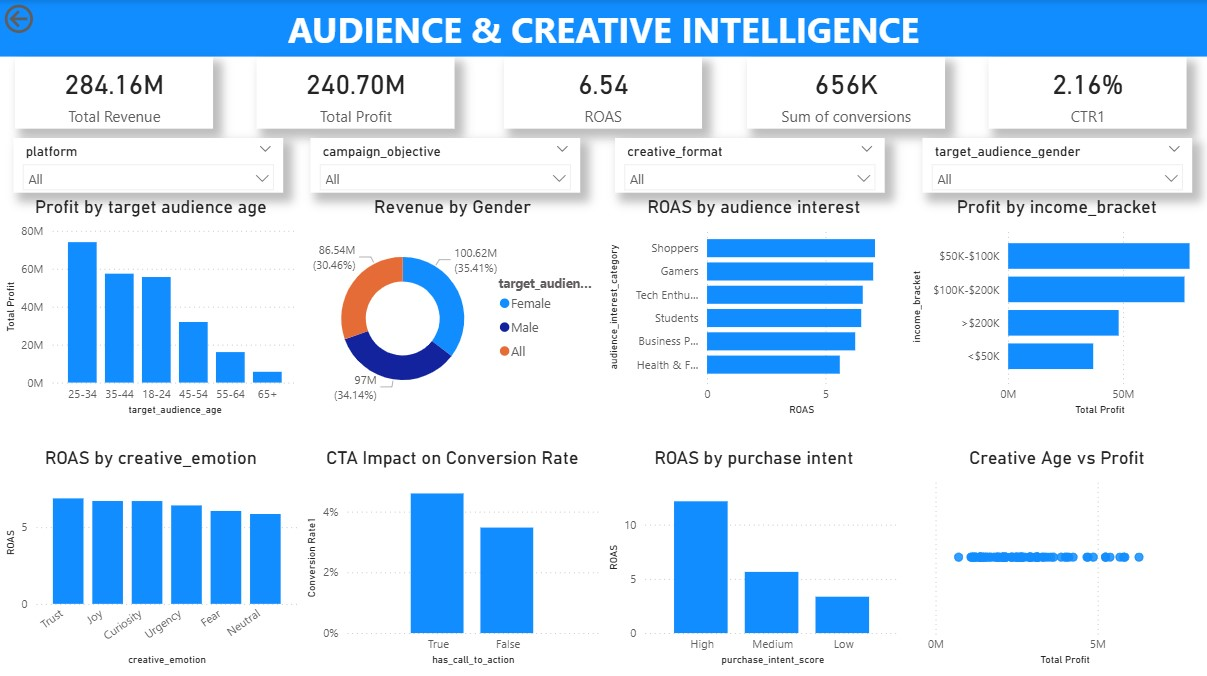

This screenshot's page, from the dashboard's own definition file:
{"tool":"powerbi","page":{"name":"Audience & Creative Intelligance","canvas":[1280,720],"ordinal":2},"visuals":[{"type":"textbox","box":[0,0,1280,60],"z":0},{"type":"card","fields":{"Values":["tech_advertising_campaigns_dataset.Total Revenue"]},"box":[16,60,210,76],"z":1},{"type":"card","fields":{"Values":["tech_advertising_campaigns_dataset.Total Profit"]},"box":[272,60,210,76],"z":2},{"type":"card","fields":{"Values":["tech_advertising_campaigns_dataset.ROAS"]},"box":[534,60,210,76],"z":3},{"type":"card","fields":{"Values":["Sum(tech_advertising_campaigns_dataset.conversions)"]},"box":[792,60,210,76],"z":4},{"type":"card","fields":{"Values":["tech_advertising_campaigns_dataset.CTR1"]},"box":[1048,60,210,76],"z":5},{"type":"clusteredColumnChart","title":"Profit by target audience age","fields":{"Y":["tech_advertising_campaigns_dataset.Total Profit"],"Category":["tech_advertising_campaigns_dataset.target_audience_age"]},"box":[0,208,320,236],"z":6},{"type":"donutChart","title":"Revenue by Gender","fields":{"Category":["tech_advertising_campaigns_dataset.target_audience_gender"],"Y":["tech_advertising_campaigns_dataset.Total Revenue"]},"box":[320,208,320,236],"z":7},{"type":"clusteredBarChart","title":"ROAS by audience interest","fields":{"Category":["tech_advertising_campaigns_dataset.audience_interest_category"],"Y":["tech_advertising_campaigns_dataset.ROAS"]},"box":[640,208,320,236],"z":8},{"type":"clusteredBarChart","title":"Profit by income_bracket","fields":{"Category":["tech_advertising_campaigns_dataset.income_bracket"],"Y":["tech_advertising_campaigns_dataset.Total Profit"]},"box":[960,208,320,236],"z":9},{"type":"clusteredColumnChart","fields":{"Category":["tech_advertising_campaigns_dataset.creative_emotion"],"Y":["tech_advertising_campaigns_dataset.ROAS"]},"box":[0,474,320,236],"z":10},{"type":"clusteredColumnChart","title":"CTA Impact on Conversion Rate","fields":{"Category":["tech_advertising_campaigns_dataset.has_call_to_action"],"Y":["tech_advertising_campaigns_dataset.Conversion Rate1"]},"box":[320,474,320,236],"z":11},{"type":"clusteredColumnChart","title":"ROAS by purchase intent","fields":{"Category":["tech_advertising_campaigns_dataset.purchase_intent_score"],"Y":["tech_advertising_campaigns_dataset.ROAS"]},"box":[640,474,320,236],"z":12},{"type":"scatterChart","title":"Creative Age vs Profit","fields":{"Category":["tech_advertising_campaigns_dataset.creative_age_days"],"X":["tech_advertising_campaigns_dataset.Total Profit"]},"box":[960,474,320,236],"z":13},{"type":"slicer","fields":{"Values":["tech_advertising_campaigns_dataset.platform"]},"box":[14,146,286,58],"z":14},{"type":"actionButton","box":[0,0,100,40],"z":15},{"type":"slicer","fields":{"Values":["tech_advertising_campaigns_dataset.campaign_objective"]},"box":[330,146,286,58],"z":16},{"type":"slicer","fields":{"Values":["tech_advertising_campaigns_dataset.creative_format"]},"box":[652,146,286,58],"z":17},{"type":"slicer","fields":{"Values":["tech_advertising_campaigns_dataset.target_audience_gender"]},"box":[978,146,286,58],"z":18}]}

Visuals, with their boxes in screenshot pixels (x1, y1, x2, y2), scaled from the page's 1280x720 canvas onto the 1207x676 screenshot:
textbox: bbox=(0, 0, 1206, 56)
card - tech_advertising_campaigns_dataset.Total Revenue: bbox=(15, 56, 213, 128)
card - tech_advertising_campaigns_dataset.Total Profit: bbox=(256, 56, 455, 128)
card - tech_advertising_campaigns_dataset.ROAS: bbox=(504, 56, 702, 128)
card - Sum(tech_advertising_campaigns_dataset.conversions): bbox=(747, 56, 945, 128)
card - tech_advertising_campaigns_dataset.CTR1: bbox=(988, 56, 1186, 128)
"Profit by target audience age" clusteredColumnChart: bbox=(0, 195, 302, 417)
"Revenue by Gender" donutChart: bbox=(302, 195, 604, 417)
"ROAS by audience interest" clusteredBarChart: bbox=(604, 195, 905, 417)
"Profit by income_bracket" clusteredBarChart: bbox=(905, 195, 1206, 417)
clusteredColumnChart - tech_advertising_campaigns_dataset.creative_emotion x tech_advertising_campaigns_dataset.ROAS: bbox=(0, 445, 302, 667)
"CTA Impact on Conversion Rate" clusteredColumnChart: bbox=(302, 445, 604, 667)
"ROAS by purchase intent" clusteredColumnChart: bbox=(604, 445, 905, 667)
"Creative Age vs Profit" scatterChart: bbox=(905, 445, 1206, 667)
slicer - tech_advertising_campaigns_dataset.platform: bbox=(13, 137, 283, 192)
actionButton: bbox=(0, 0, 94, 38)
slicer - tech_advertising_campaigns_dataset.campaign_objective: bbox=(311, 137, 581, 192)
slicer - tech_advertising_campaigns_dataset.creative_format: bbox=(615, 137, 885, 192)
slicer - tech_advertising_campaigns_dataset.target_audience_gender: bbox=(922, 137, 1192, 192)
